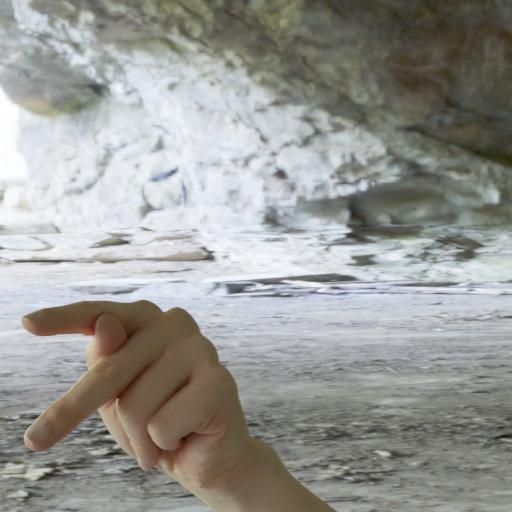P: (12, 282, 262, 512)
